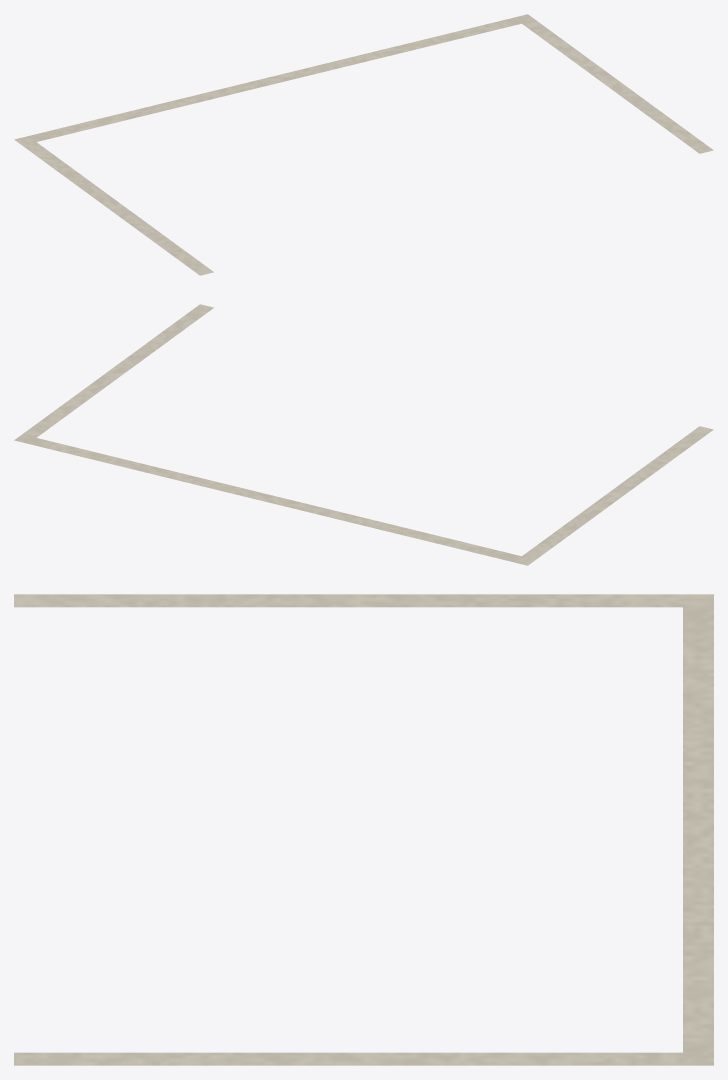
Rendered from q01-parking.glb.
The picture shows the model from 3 angles, top to bottom: view 1: azimuth 30°, elevation 25°; view 2: azimuth 150°, elevation 25°; view 3: azimuth 270°, elevation 25°; orthographic projection. The views are drawn at different scales.
Size of the model in its own units: 2.16 by 0 by 1.36.
Materials: 1 (1 with a texture image).
